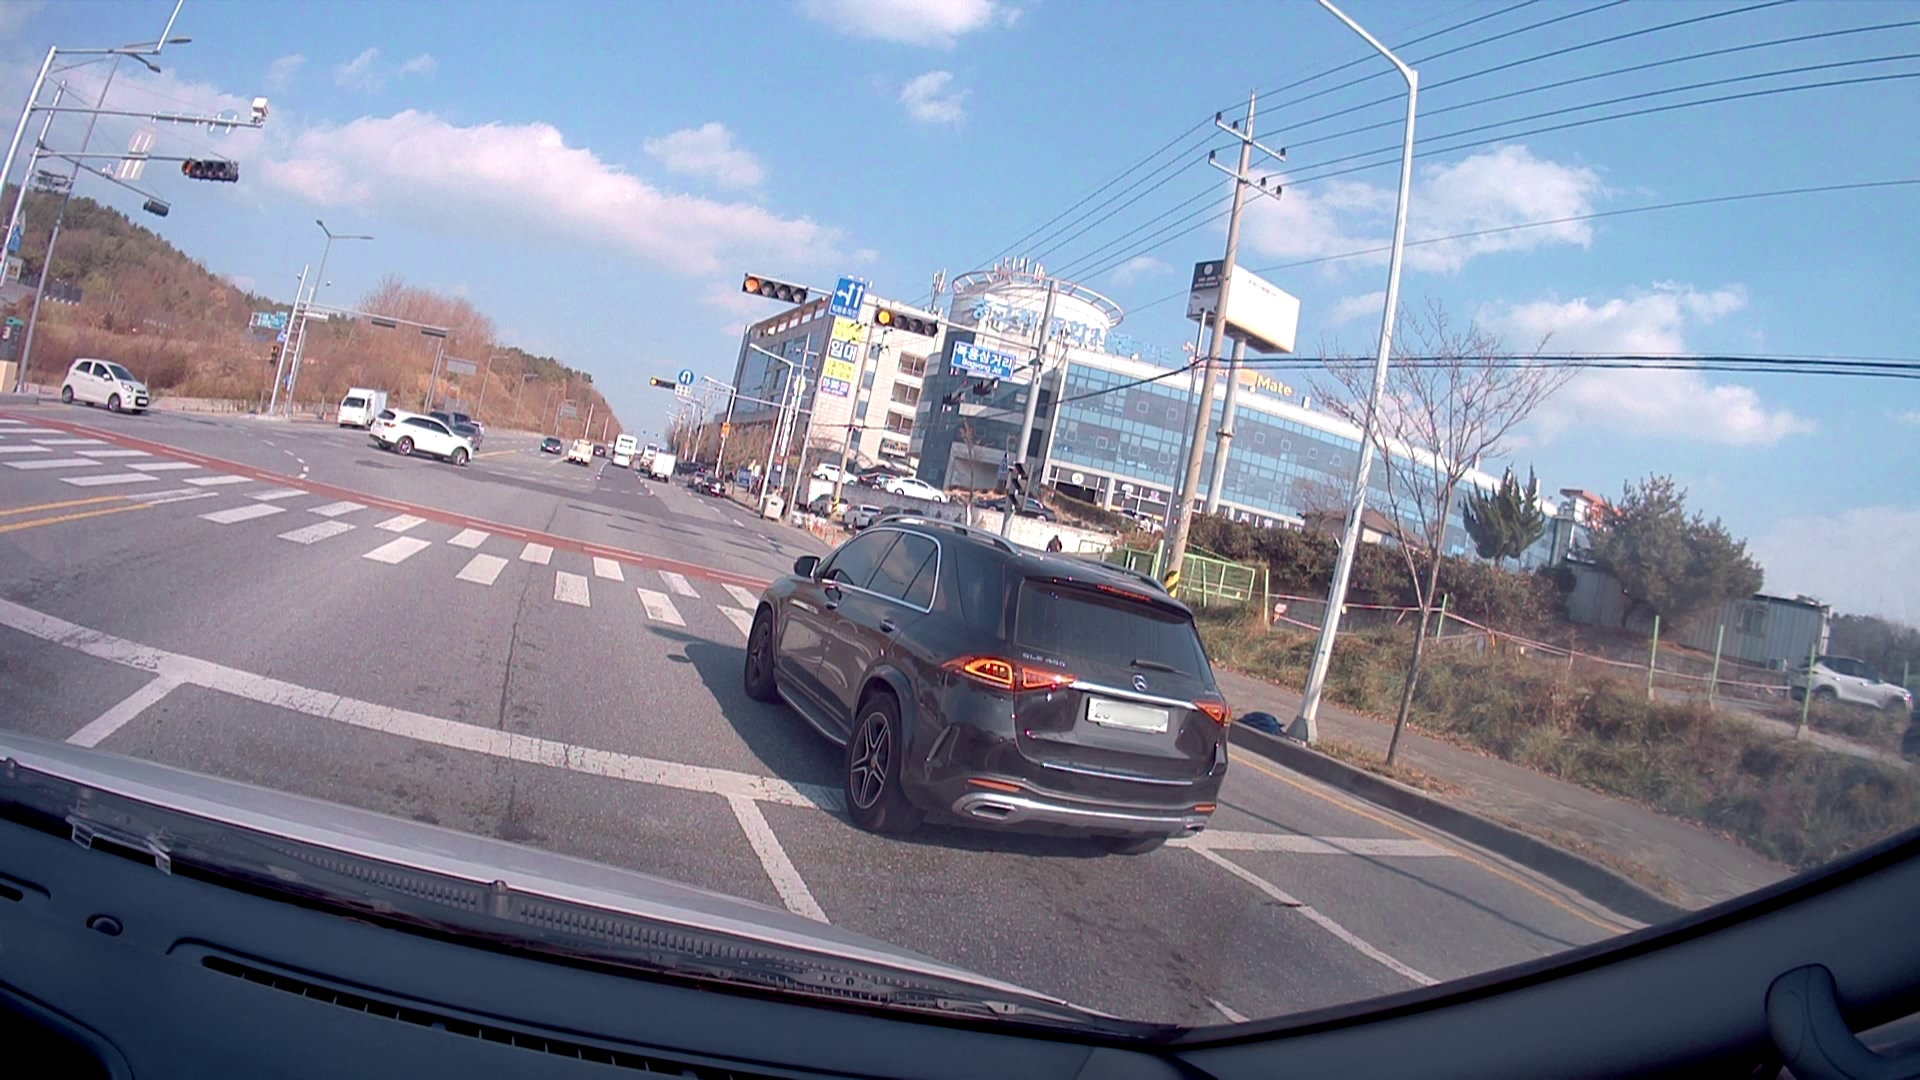trafficLight: (742, 270, 808, 310), (880, 306, 939, 342), (649, 376, 673, 390)
trafficSignCircle: (679, 367, 691, 384)
trafficSignRTG: (831, 274, 864, 324)
